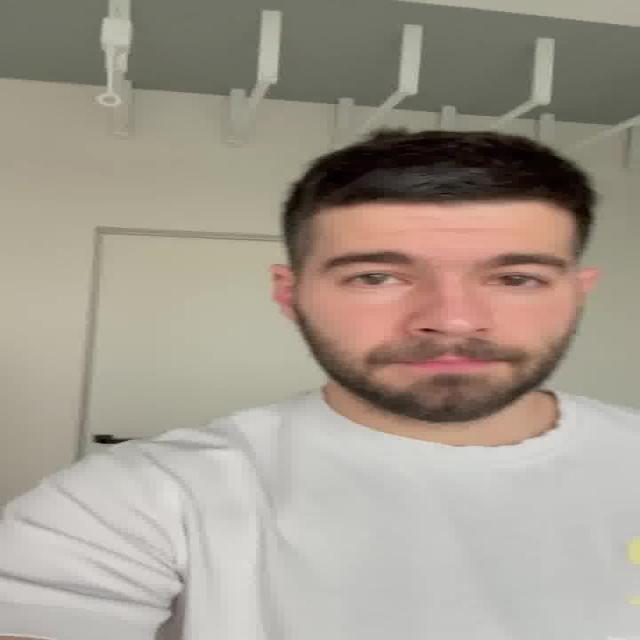earlobe: (268, 264, 299, 322), (578, 267, 604, 297)
